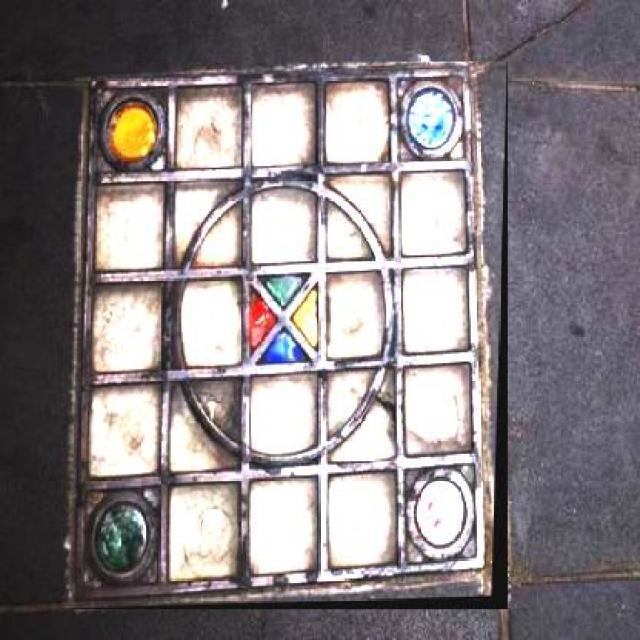Manhole: (61, 61, 508, 610)
